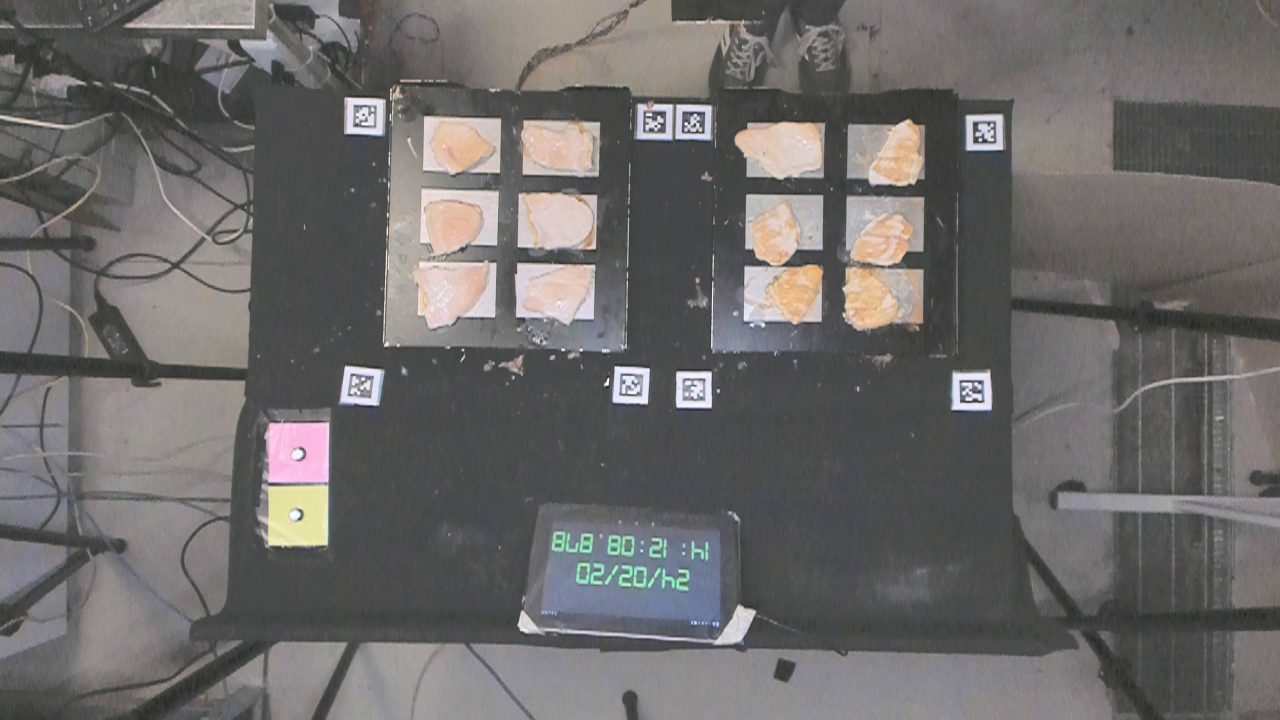chicken: (729, 118, 825, 181), (516, 186, 600, 254), (409, 264, 493, 326), (518, 115, 597, 176), (515, 267, 598, 324), (840, 265, 907, 333), (868, 117, 925, 193), (844, 211, 916, 267), (426, 117, 494, 174), (420, 200, 484, 258), (747, 202, 800, 267), (772, 264, 825, 328)
marker: (264, 420, 333, 485)
